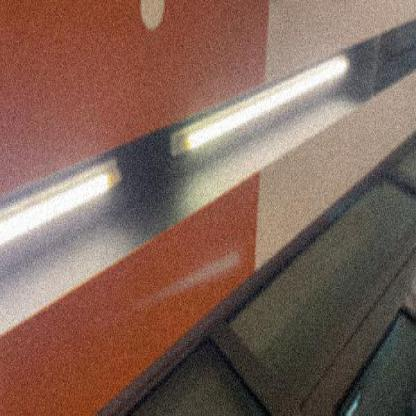light_on: (164, 42, 358, 176), (0, 143, 137, 256)
